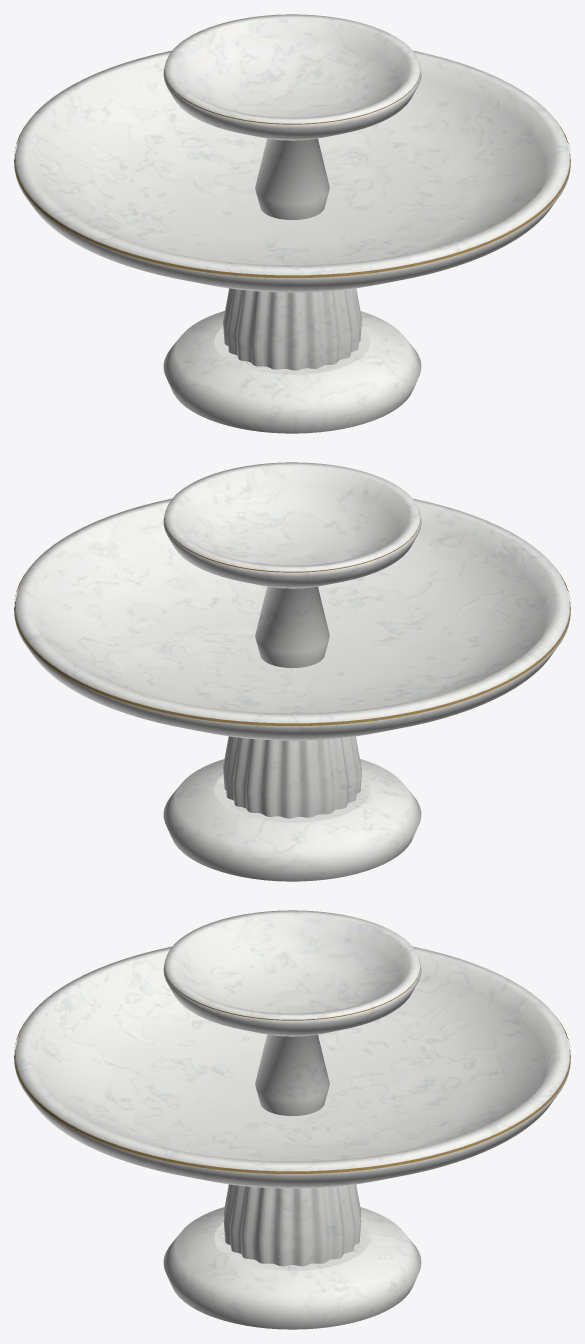
File: fountain_basin.glb
3 renders of one model, top to bottom at view 1: azimuth 30°, elevation 25°; view 2: azimuth 150°, elevation 25°; view 3: azimuth 270°, elevation 25°, orthographic.
Visible parts, largest first — view 1: 16 Fountain Basin; view 2: 16 Fountain Basin; view 3: 16 Fountain Basin.
Part boxes in pixels (box(x1,y1,x2,y2)): 16 Fountain Basin: box(14, 14, 570, 433); 16 Fountain Basin: box(14, 462, 570, 881); 16 Fountain Basin: box(14, 910, 570, 1329).
Size of the model in its own units: 3.28 by 2.04 by 3.28.
Materials: 2 (2 with a texture image).
